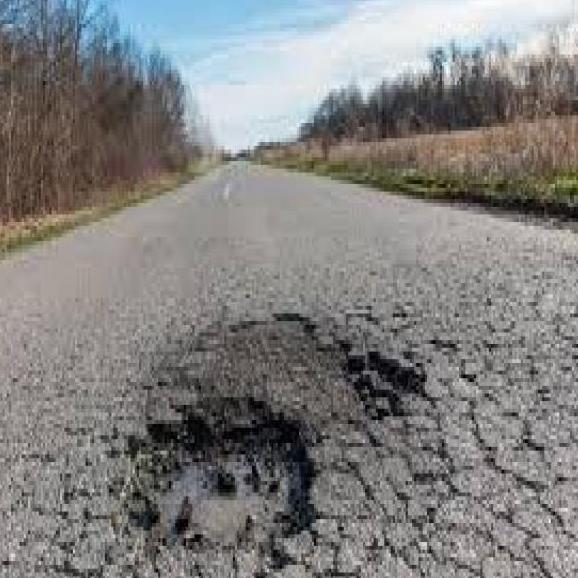pothole: (113, 398, 324, 576)
